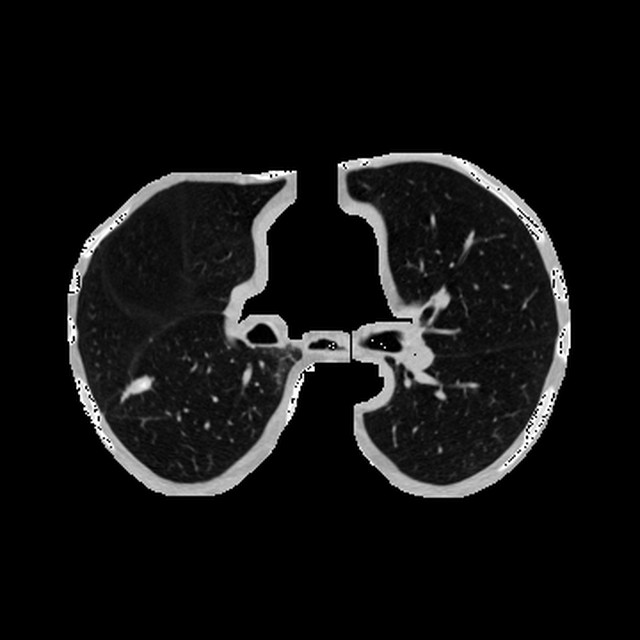PN: (130, 373, 151, 395)
